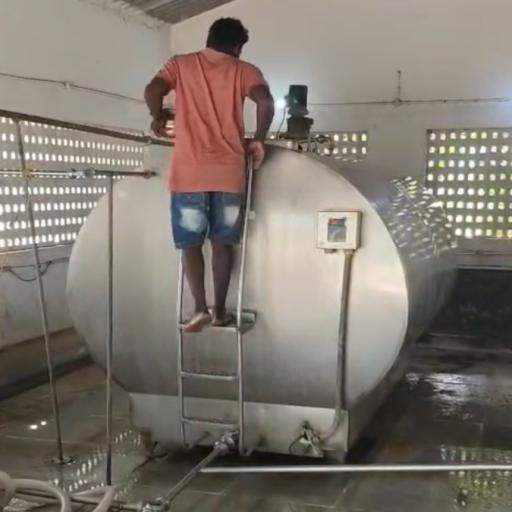silo: (67, 136, 460, 455)
vessel: (163, 107, 176, 137)
